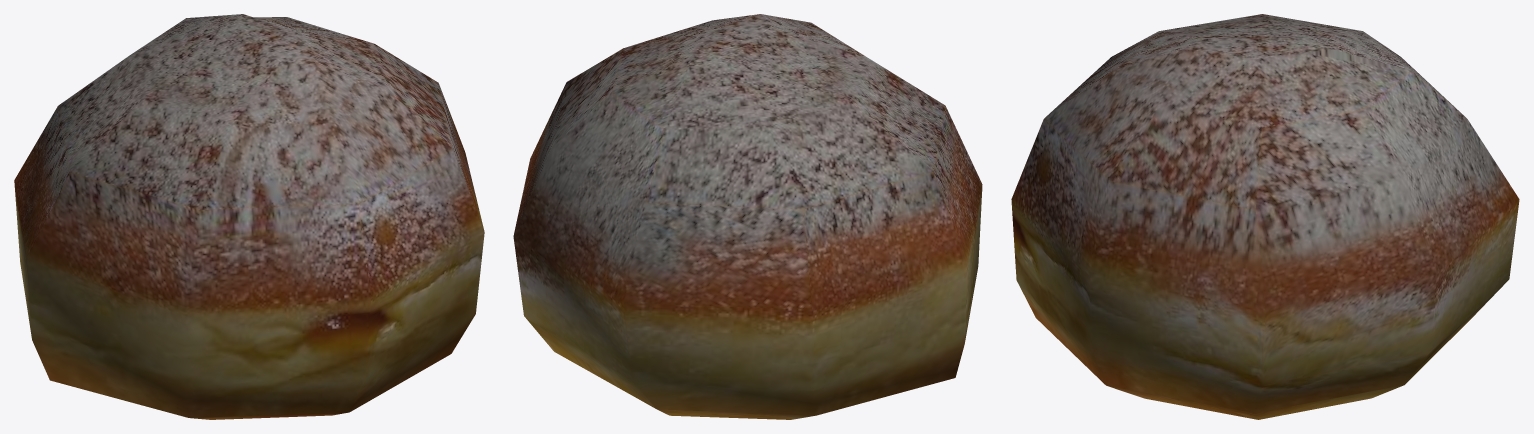
File: krapfen.glb
The picture shows the model from 3 angles, left to right: view 1: azimuth 30°, elevation 25°; view 2: azimuth 150°, elevation 25°; view 3: azimuth 270°, elevation 25°; orthographic projection.
Visible parts, largest first — view 1: Cube; view 2: Cube; view 3: Cube.
Part boxes in pixels (x1,y1,x2,y2): Cube: (14,14,484,419); Cube: (513,14,982,419); Cube: (1011,14,1519,419).
Bounding box in the file's own units: 0.4135 × 0.2917 × 0.4087.
Materials: 1 (1 with a texture image).
